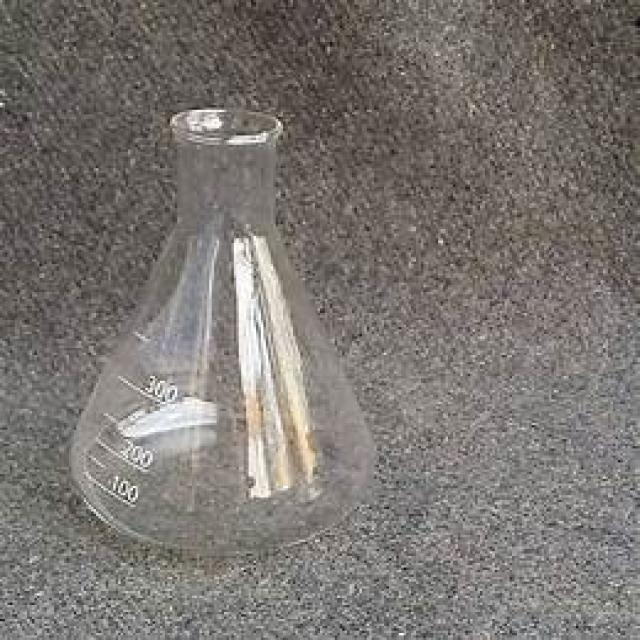Titrarion: (73, 79, 379, 551)
